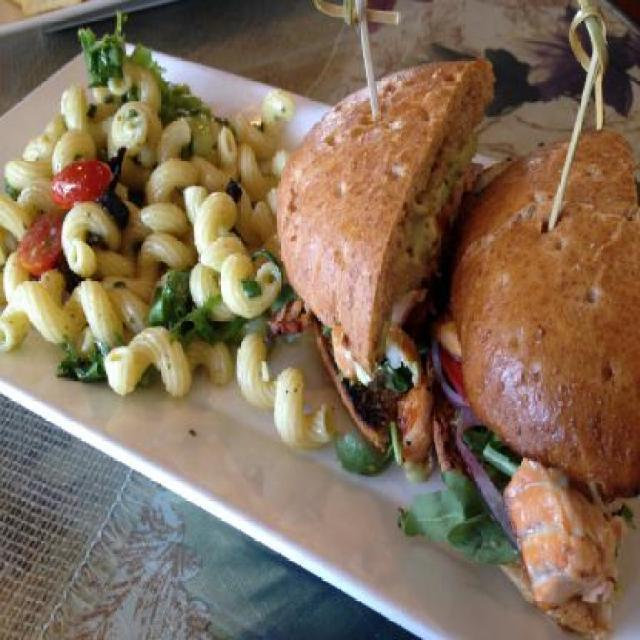Sandwich: (276, 56, 498, 453)
